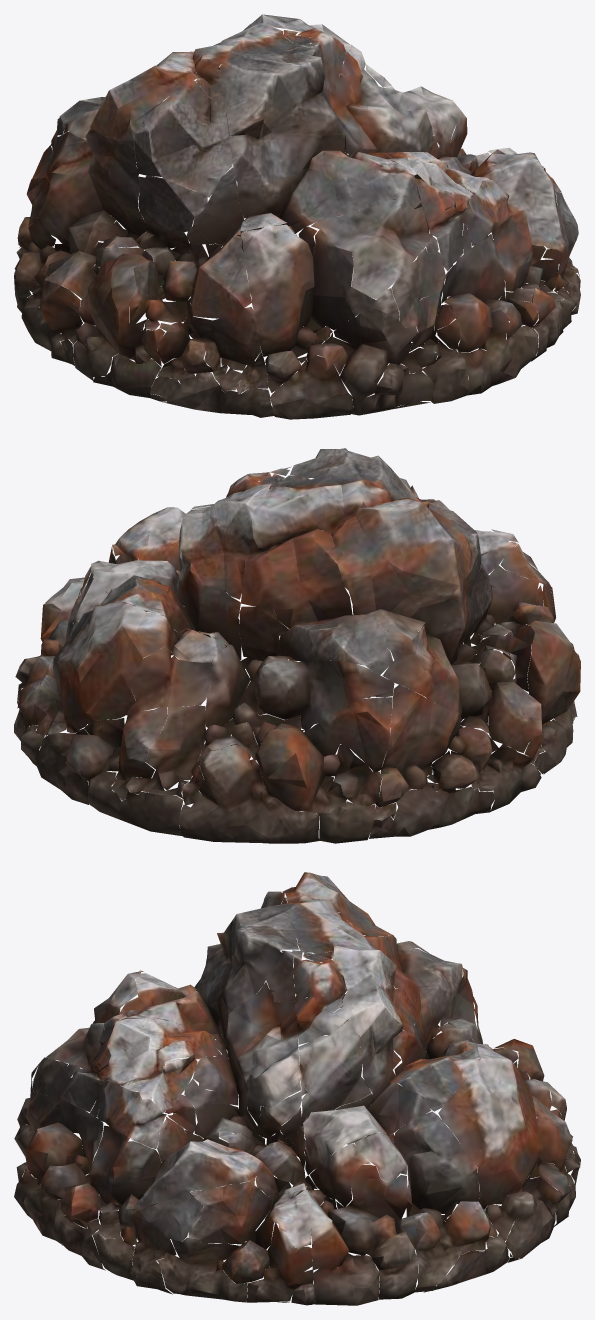
The model's file is mine-iron.glb.
3 renders of one model, top to bottom at view 1: azimuth 30°, elevation 25°; view 2: azimuth 150°, elevation 25°; view 3: azimuth 270°, elevation 25°, orthographic. The views are drawn at different scales.
Parts seen in each view (by area): view 1: mine-iron-body; view 2: mine-iron-body; view 3: mine-iron-body.
Part boxes in pixels (bbox=[...]): mine-iron-body: bbox=[14, 14, 580, 419]; mine-iron-body: bbox=[14, 448, 580, 843]; mine-iron-body: bbox=[14, 872, 580, 1305].
Bounding box in the file's own units: 1 × 0.5074 × 1.
Materials: 1 (1 with a texture image).
